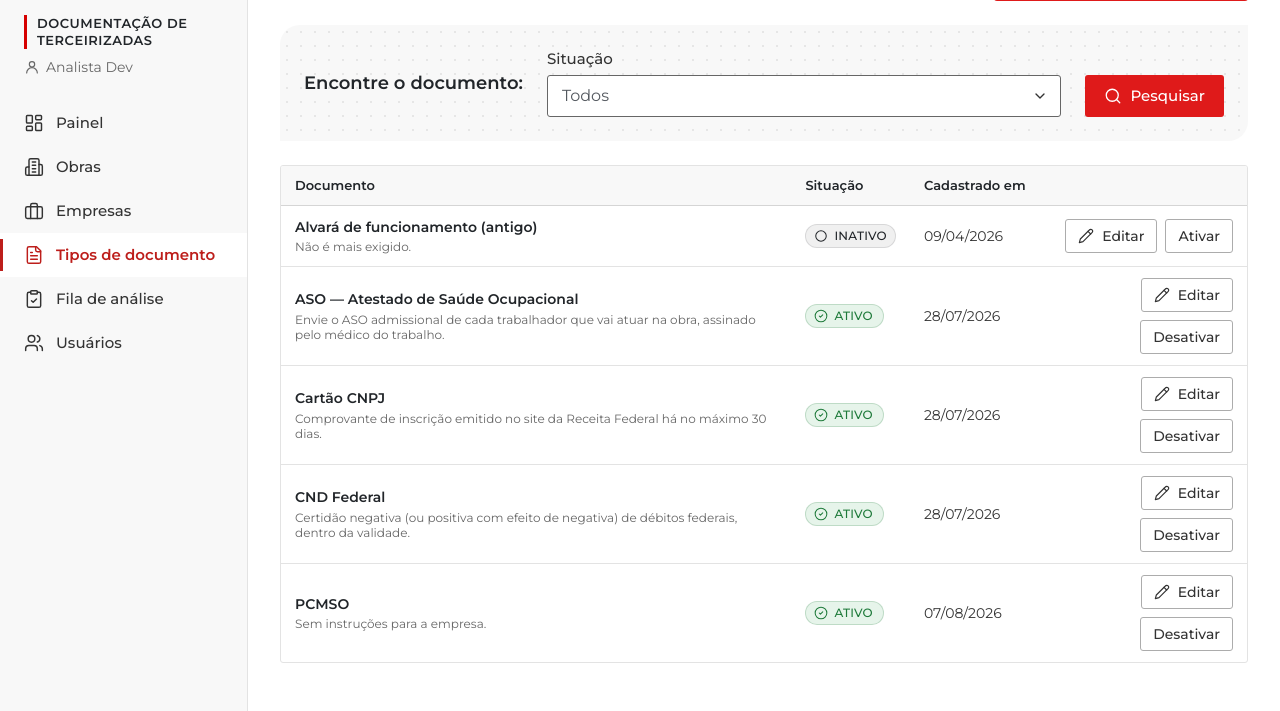
Test: Tipos de documento › desativar pede confirmação e avisa que o tipo deixa de ser exigido
(page scrolled)
Click the button "Desativar" in the row of "Sem instruções para a empresa." at (1187, 634), box top-left (1140, 617), bottom-right (1233, 651)
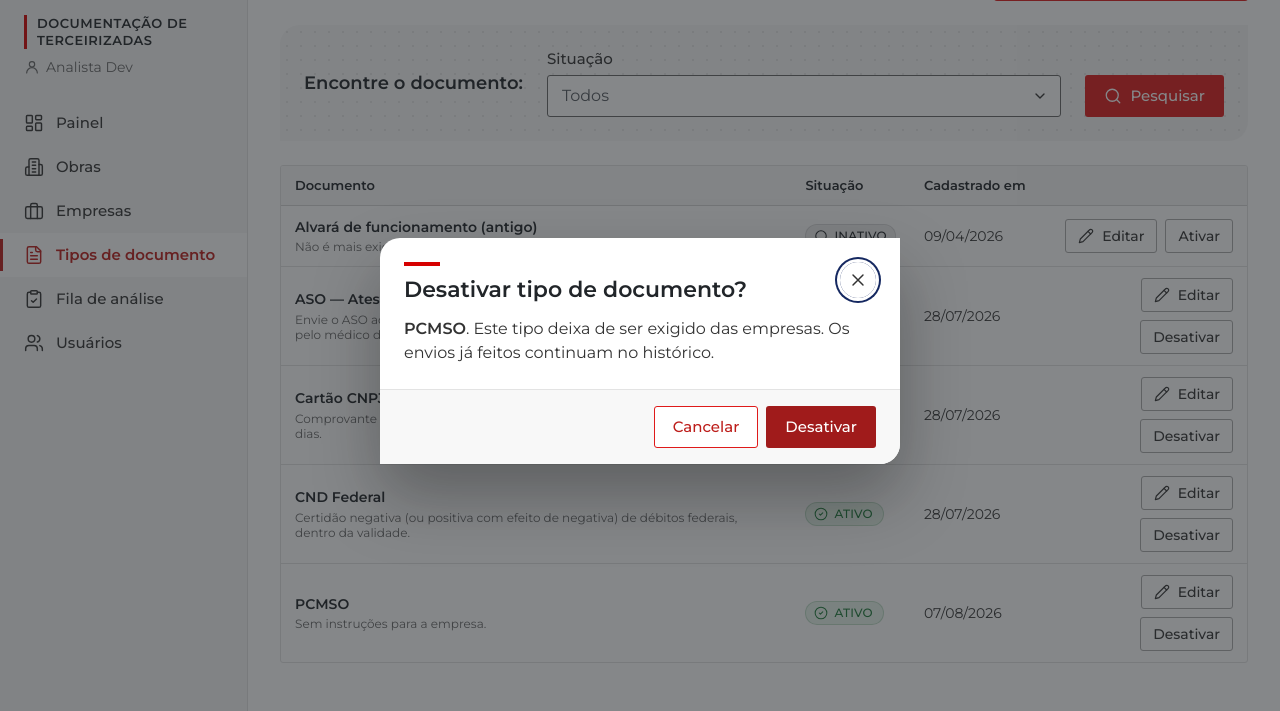
expect the dialog "Desativar tipo de documento?" shows "Este tipo deixa de ser exigido das empresas.": met, box top-left (404, 319), bottom-right (850, 362)
Click the button "Desativar" at (821, 427), box top-left (766, 406), bottom-right (876, 448)
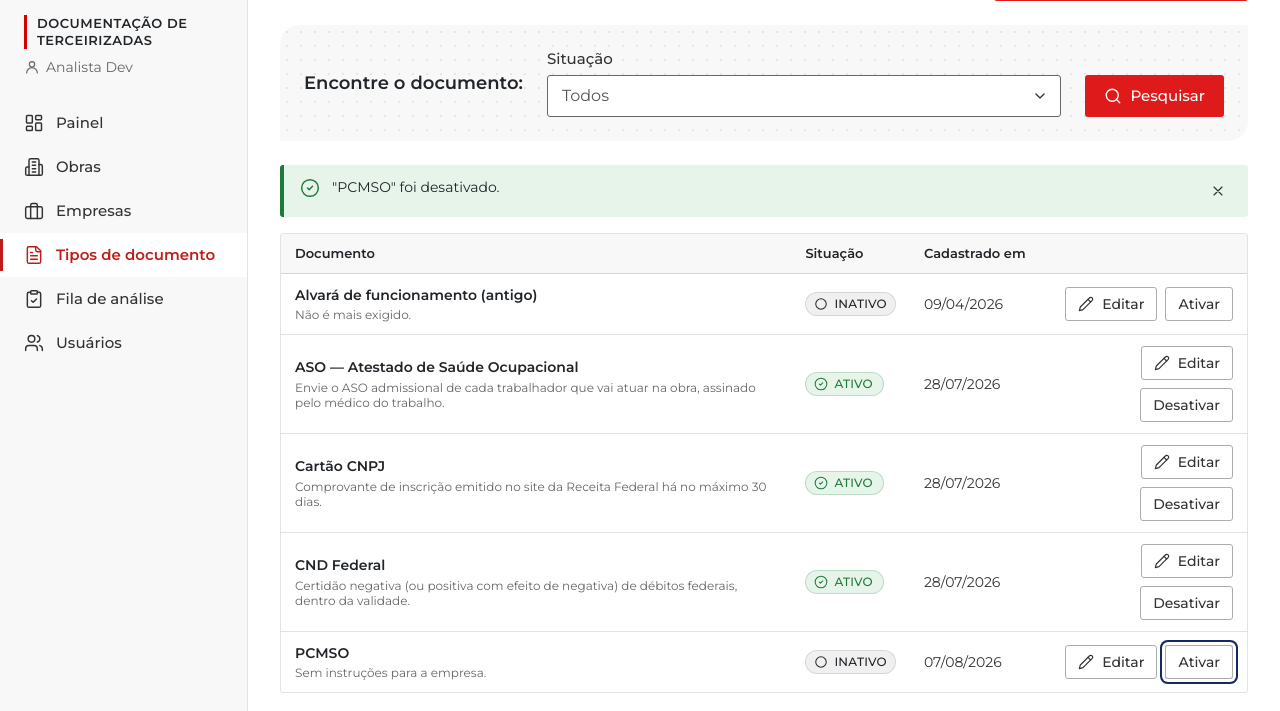
expect the text "Inativo" in the row of "Sem instruções para a empresa." is shown: met, box top-left (834, 654), bottom-right (887, 669)
